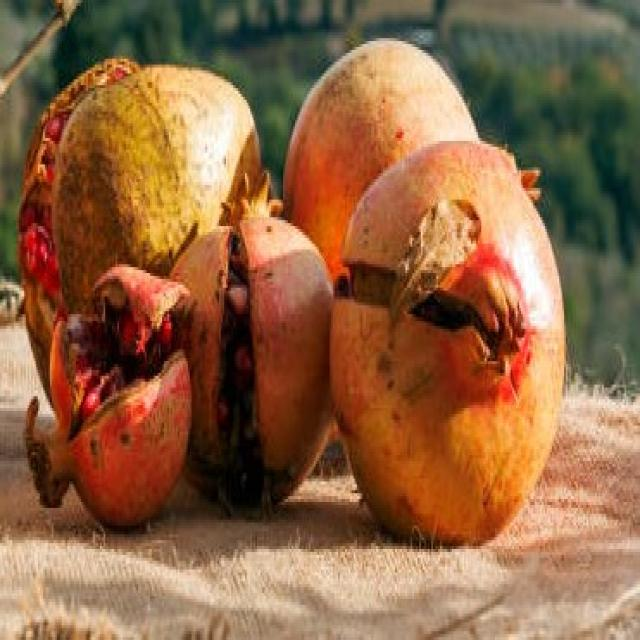overripe: (327, 136, 570, 548), (170, 170, 334, 516), (18, 262, 192, 536)
